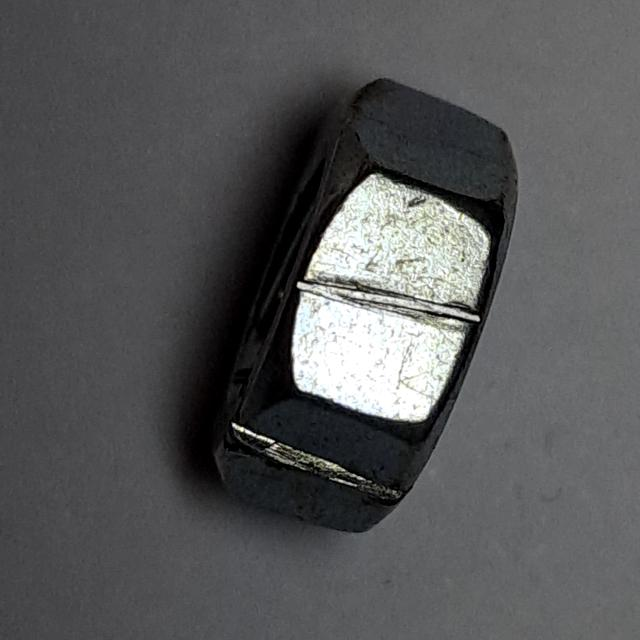Side_Scratches: (197, 68, 532, 553)
